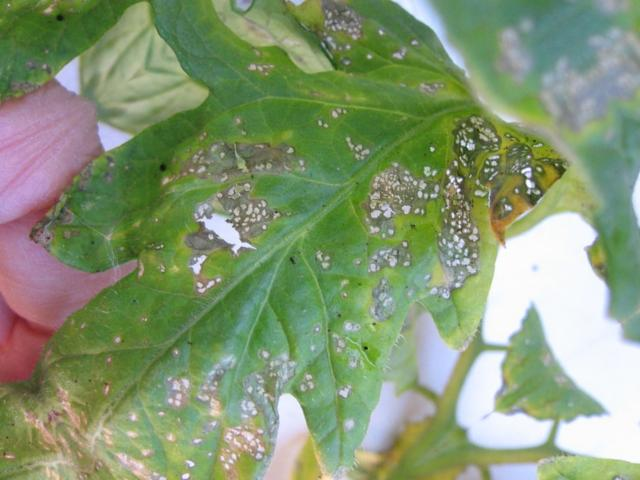Tomato Septoria leaf spot: (0, 0, 637, 480)
